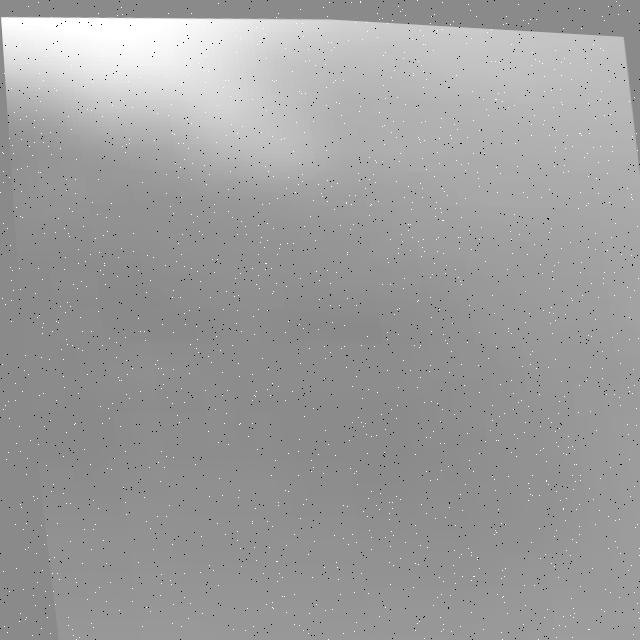person: (1, 1, 418, 167)
